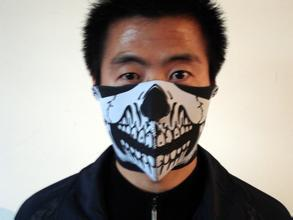OK: (96, 45, 225, 174)
